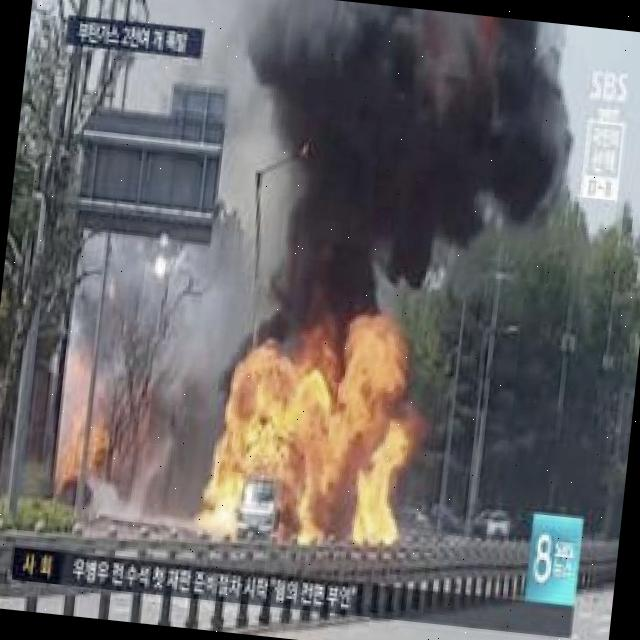fire: (211, 344, 406, 544), (57, 410, 99, 474)
